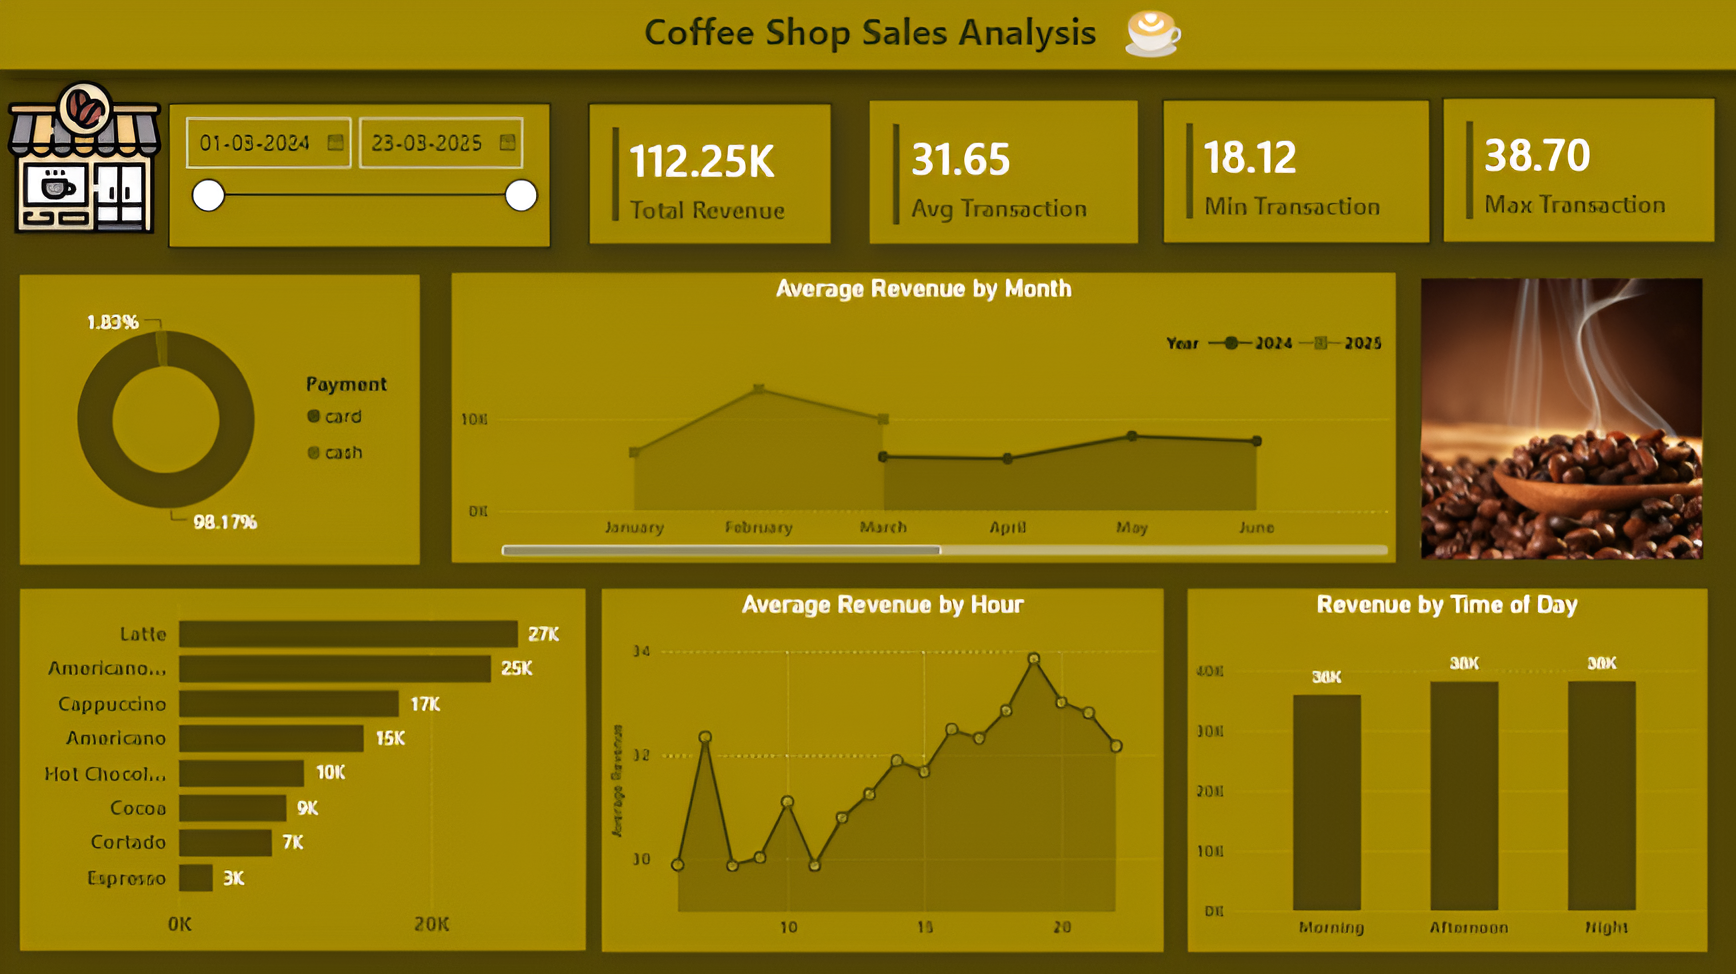

This screenshot's page, from the dashboard's own definition file:
{"tool":"powerbi","page":{"name":"Page 1","canvas":[1280,720],"ordinal":0},"visuals":[{"type":"clusteredBarChart","fields":{"Category":["Coffee_sales.coffee_name"],"Y":["Sum(Coffee_sales.money)"]},"box":[15,433.8,416.2,266.2],"z":0},{"type":"slicer","fields":{"Values":["Coffee_sales.Date"]},"box":[123.3,76.7,281.7,106.7],"z":1000},{"type":"textbox","box":[0,0,1280,51.7],"z":2000},{"type":"cardVisual","fields":{"Data":["Sum(Coffee_sales.money)"]},"box":[431.7,76.7,180,105],"z":3000},{"type":"cardVisual","fields":{"Data":["Avg(Coffee_sales.money)"]},"box":[640,75,196.7,105],"z":4000},{"type":"cardVisual","fields":{"Data":["Min(Coffee_sales.money)"]},"box":[855,73.3,198.3,106.7],"z":5000},{"type":"cardVisual","fields":{"Data":["Max(Coffee_sales.money)"]},"box":[1060,71.7,201.7,108.3],"z":6000},{"type":"donutChart","fields":{"Category":["Coffee_sales.cash_type"],"Y":["CountNonNull(Coffee_sales.cash_type)"]},"box":[14.7,202.9,294.1,213.2],"z":7000},{"type":"stackedAreaChart","title":"Average Revenue by Hour","fields":{"Category":["Coffee_sales.hour_of_day"],"Y":["Avg(Coffee_sales.money)"]},"box":[443.3,433.3,413.3,266.7],"z":8000},{"type":"lineChart","title":"Average Revenue by Month","fields":{"Category":["Coffee_sales.Date.Variation.Date Hierarchy.Month"],"Y":["Sum(Coffee_sales.money)"],"Series":["Coffee_sales.Date.Variation.Date Hierarchy.Year"]},"box":[332.4,201.5,694.1,213.2],"z":9000},{"type":"clusteredColumnChart","title":"Revenue by Time of Day","fields":{"Y":["Sum(Coffee_sales.money)"],"Category":["Coffee_sales.Time_of_Day"]},"box":[873.3,433.3,381.7,266.7],"z":10000},{"type":"actionButton","box":[1041.2,201.5,215,215],"z":10001},{"type":"actionButton","box":[823.3,0,50,51.7],"z":10002},{"type":"actionButton","box":[1.7,51.7,121.7,130],"z":10003}]}

Visuals, with their boxes in screenshot pixels (x1, y1, x2, y2), scaled from the page's 1280x720 canvas onto the 1736x974 screenshot:
clusteredBarChart - Coffee_sales.coffee_name x Sum(Coffee_sales.money): 20/587/585/947
slicer - Coffee_sales.Date: 167/104/549/248
textbox: 0/0/1735/70
cardVisual - Sum(Coffee_sales.money): 585/104/830/246
cardVisual - Avg(Coffee_sales.money): 868/101/1135/244
cardVisual - Min(Coffee_sales.money): 1160/99/1429/244
cardVisual - Max(Coffee_sales.money): 1438/97/1711/244
donutChart - Coffee_sales.cash_type x CountNonNull(Coffee_sales.cash_type): 20/274/419/563
"Average Revenue by Hour" stackedAreaChart: 601/586/1162/947
"Average Revenue by Month" lineChart: 451/273/1392/561
"Revenue by Time of Day" clusteredColumnChart: 1184/586/1702/947
actionButton: 1412/273/1704/563
actionButton: 1117/0/1184/70
actionButton: 2/70/167/246
